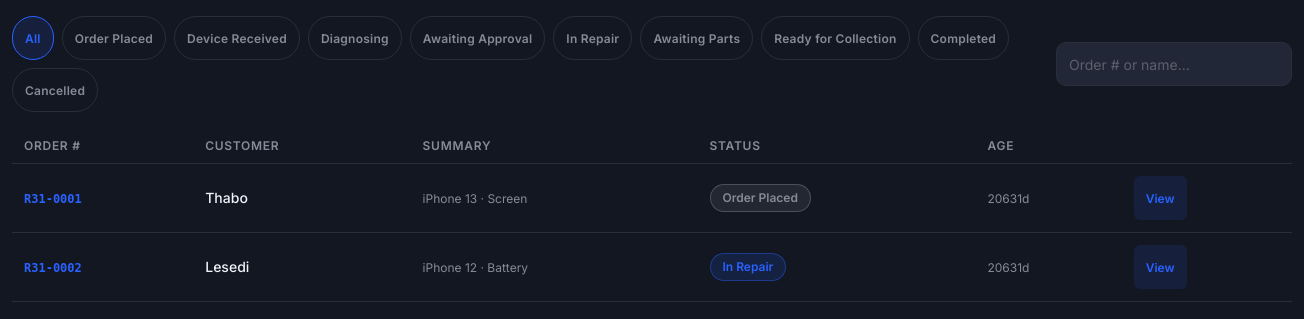
Test: OrderQueue › filters by status and searches by name/number
Expected: the text "R31-0001" is shown, [24, 192, 82, 206]
Click the button "In Repair" at coordinates (593, 38), box [553, 16, 632, 60]
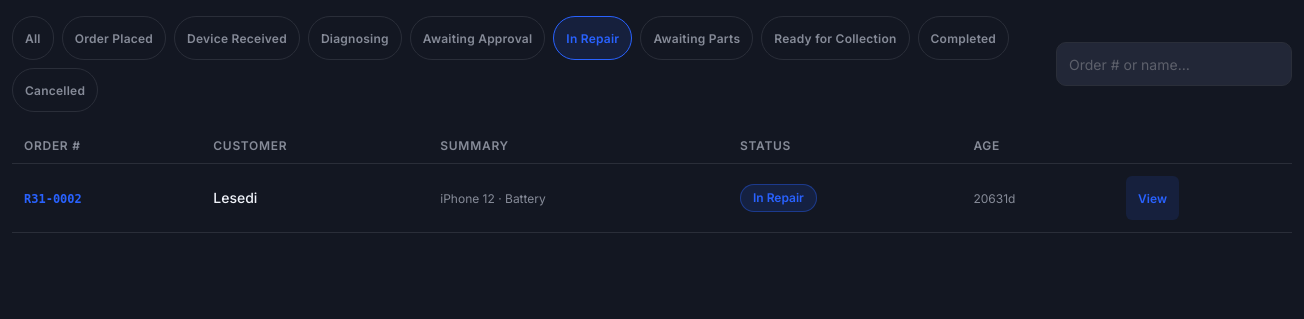
Expected: the text "R31-0002" is shown, [24, 192, 82, 206]
Now the text "R31-0001" is gone
